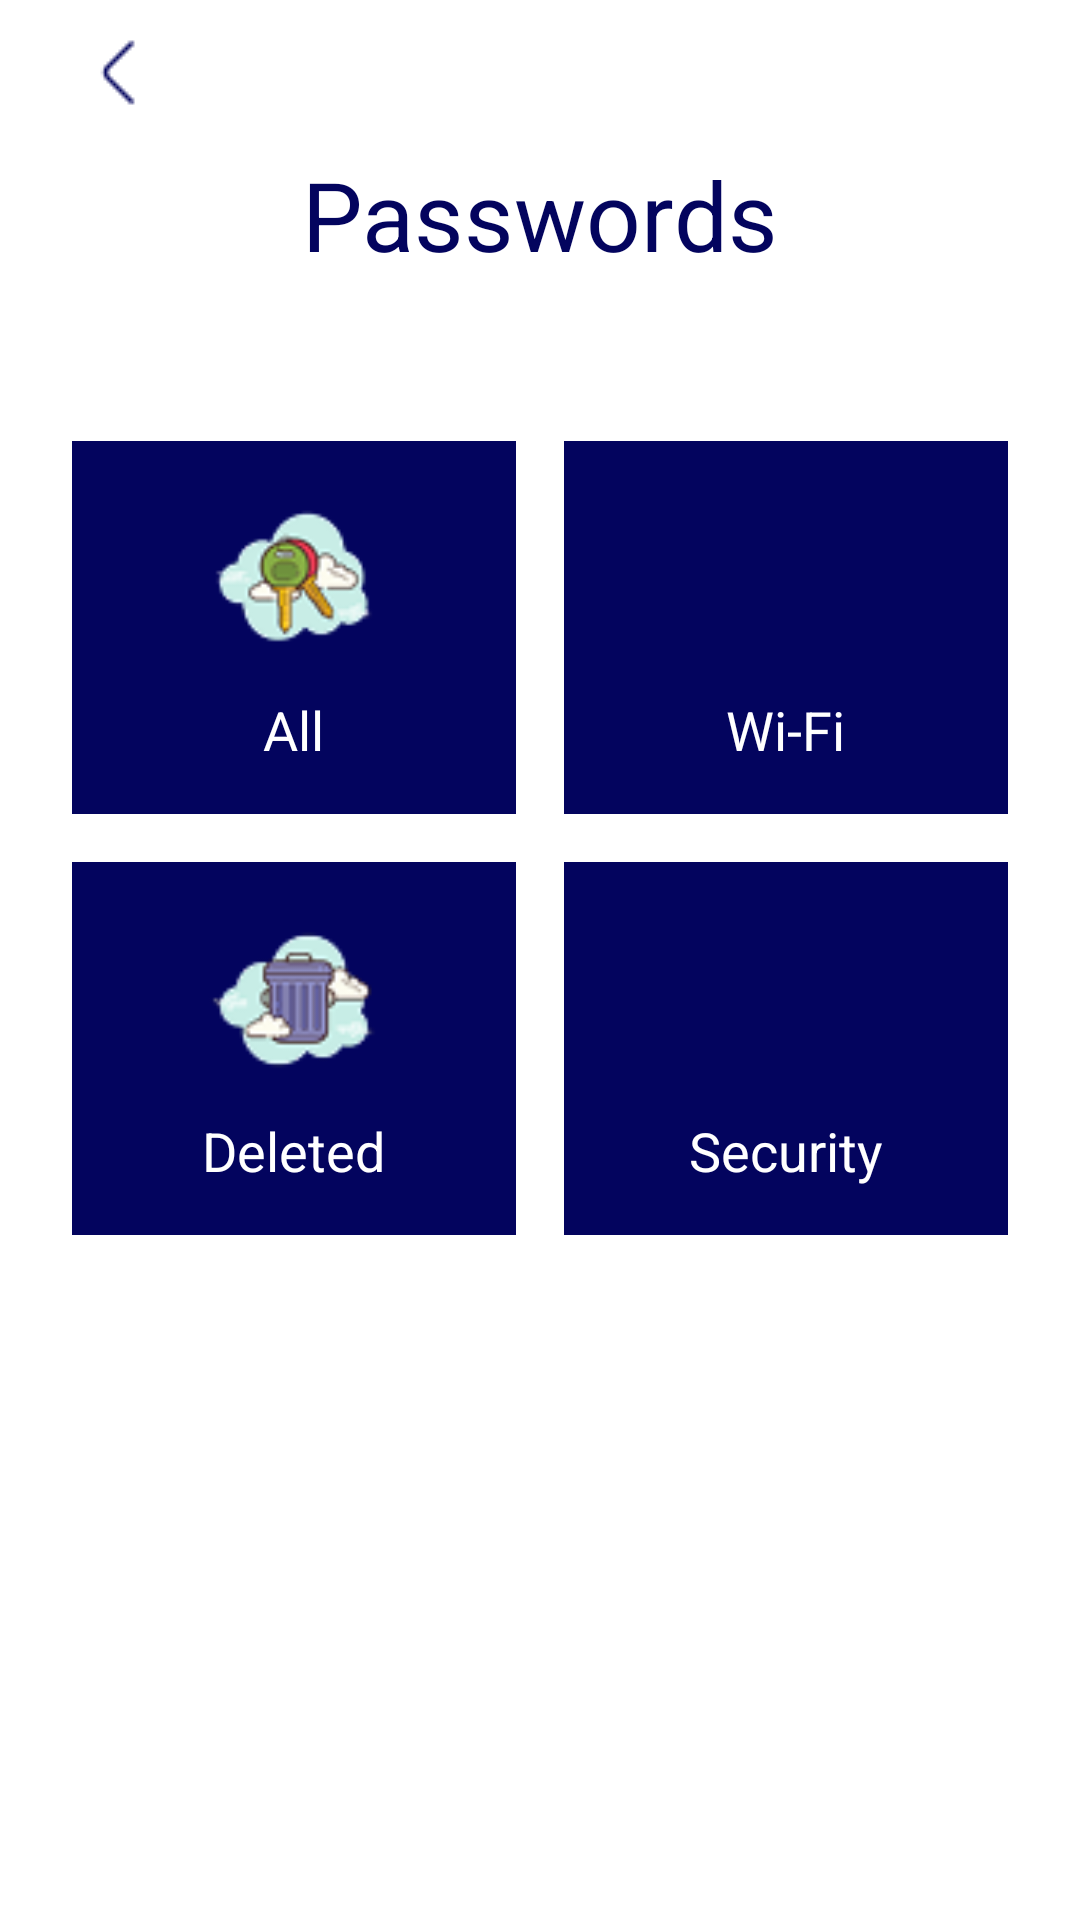

Locate icon controls on the screen. Image size 1080x1920, boxes as bbox(x1, y1, x2, y2).
keys: bbox(216, 512, 370, 642)
Retour: bbox(101, 40, 135, 105)
